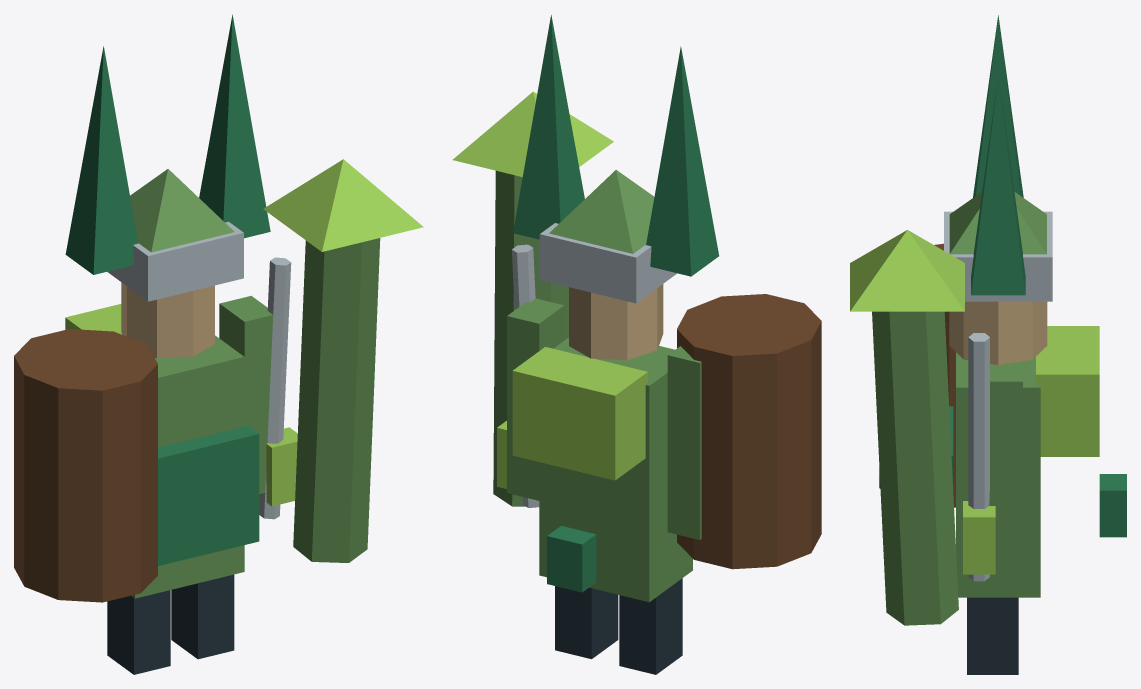
Rendered from club-fighter.obj.
3 views of the same model, side by side, from view 1: azimuth 30°, elevation 25°; view 2: azimuth 150°, elevation 25°; view 3: azimuth 270°, elevation 25° (orthographic). The views are drawn at different scales.
Visible parts, largest first — view 1: infantry; view 2: infantry; view 3: infantry.
Boxes of the visible parts, box(x1,y1,x2,y2) form: infantry: box(14, 14, 423, 674); infantry: box(452, 15, 821, 674); infantry: box(850, 15, 1126, 674).
Bounding box in the file's own units: 1.3 × 2.21 × 0.915.
